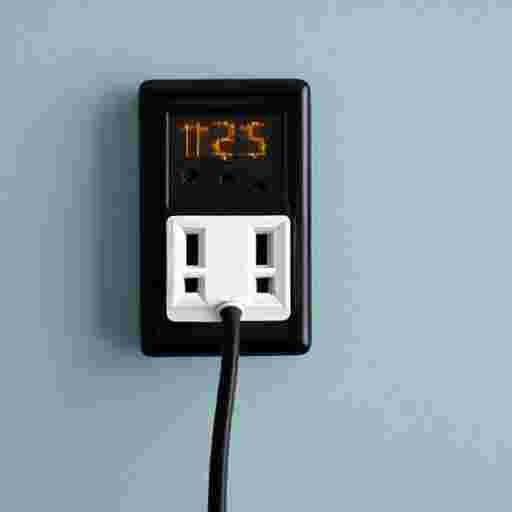power outlet: (140, 79, 310, 354)
